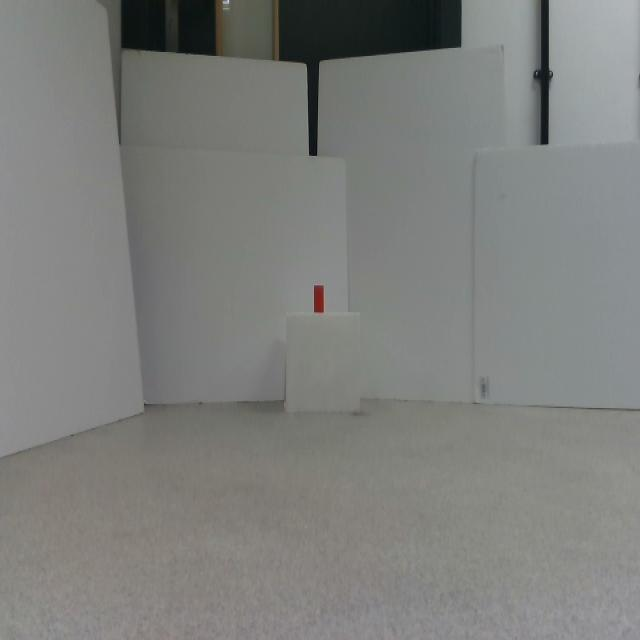red_cylinder: (314, 286, 324, 312)
